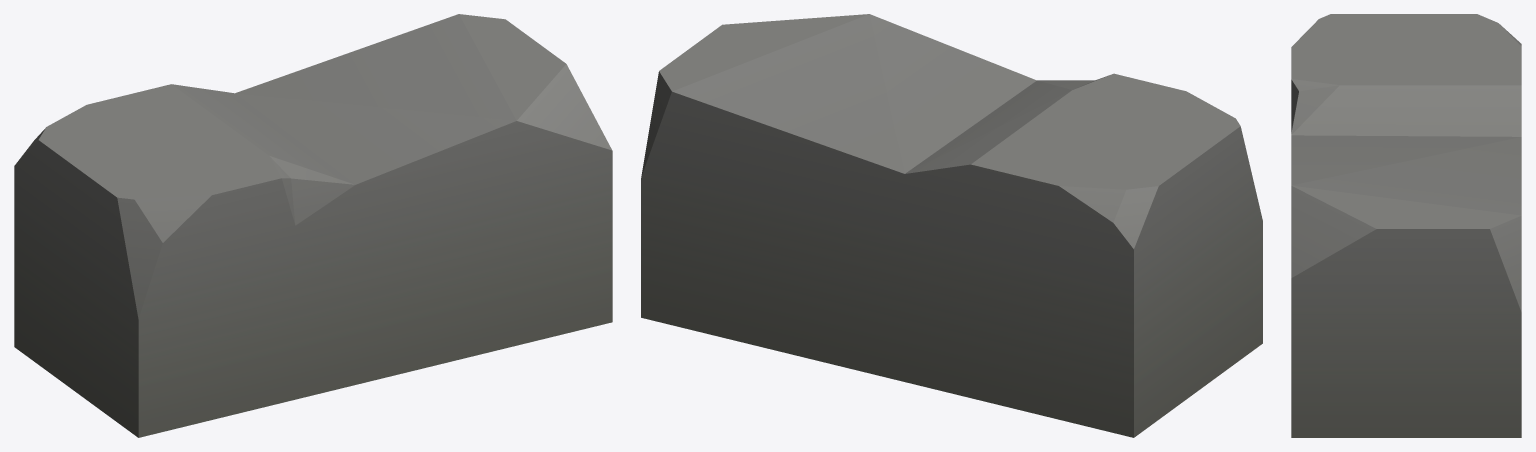
The model's file is Mountain_03.fbx.
3 renders of one model, left to right at view 1: azimuth 30°, elevation 25°; view 2: azimuth 150°, elevation 25°; view 3: azimuth 270°, elevation 25°, orthographic. The views are drawn at different scales.
Parts seen in each view (by area): view 1: Mountain_03; view 2: Mountain_03; view 3: Mountain_03.
Boxes of the visible parts, x1=… form: Mountain_03: x1=14, y1=14, x2=612, y2=437; Mountain_03: x1=641, y1=14, x2=1262, y2=437; Mountain_03: x1=1291, y1=14, x2=1521, y2=437.
Bounding box in the file's own units: 1538 × 697 × 697.
